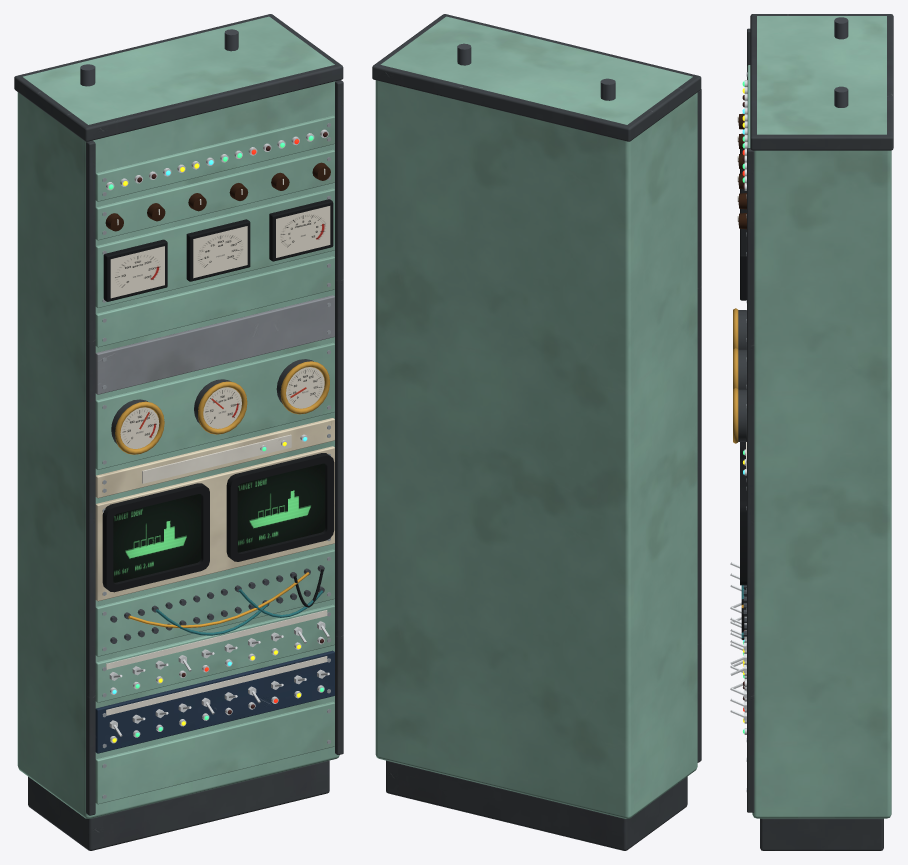
File: Rack_75_4.glb
The picture shows the model from 3 angles, left to right: view 1: azimuth 30°, elevation 25°; view 2: azimuth 150°, elevation 25°; view 3: azimuth 270°, elevation 25°; orthographic projection.
Parts seen in each view (by area): view 1: Rack_75_4_Body; view 2: Rack_75_4_Body; view 3: Rack_75_4_Body.
Boxes of the visible parts, <box> form: Rack_75_4_Body: <box>14,14,343,850</box>; Rack_75_4_Body: <box>372,14,701,850</box>; Rack_75_4_Body: <box>730,14,893,850</box>.
Size of the model in its own units: 0.76 by 2.1 by 0.4216.
Materials: 24 (13 with a texture image).
